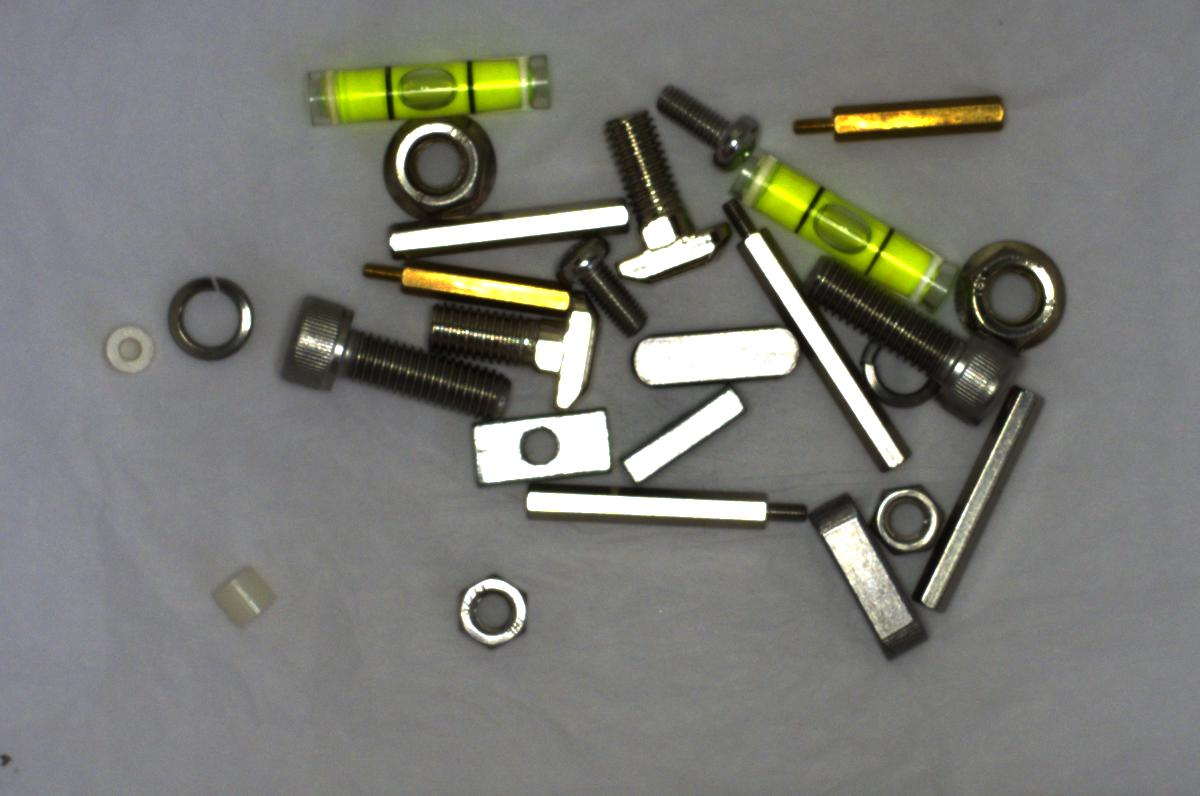Double hexagonal column: (897, 368, 1055, 618), (376, 194, 630, 260)
Flange nut: (946, 228, 1089, 367), (365, 101, 503, 228)
Hexagon nut: (434, 562, 548, 665), (861, 472, 944, 555)
Hexagon pillar: (785, 82, 1012, 146), (350, 256, 576, 315)
Hexagon screw: (808, 259, 1012, 417), (275, 292, 511, 417)
Hexagonal steel column: (716, 178, 911, 486), (519, 482, 819, 539)
Horizontal bubble: (732, 145, 958, 310), (298, 50, 557, 130)
Keybar: (808, 486, 932, 662), (626, 317, 810, 399)
Plastic cushion pillar: (208, 558, 284, 637), (98, 323, 160, 381)
Rectangular nut: (616, 381, 753, 486), (461, 399, 614, 487)
Round head screw: (643, 82, 767, 176), (556, 231, 644, 337)
Spring washer: (161, 272, 256, 360), (858, 331, 948, 418)
T-shaped screw: (594, 103, 733, 289), (419, 294, 606, 414)
